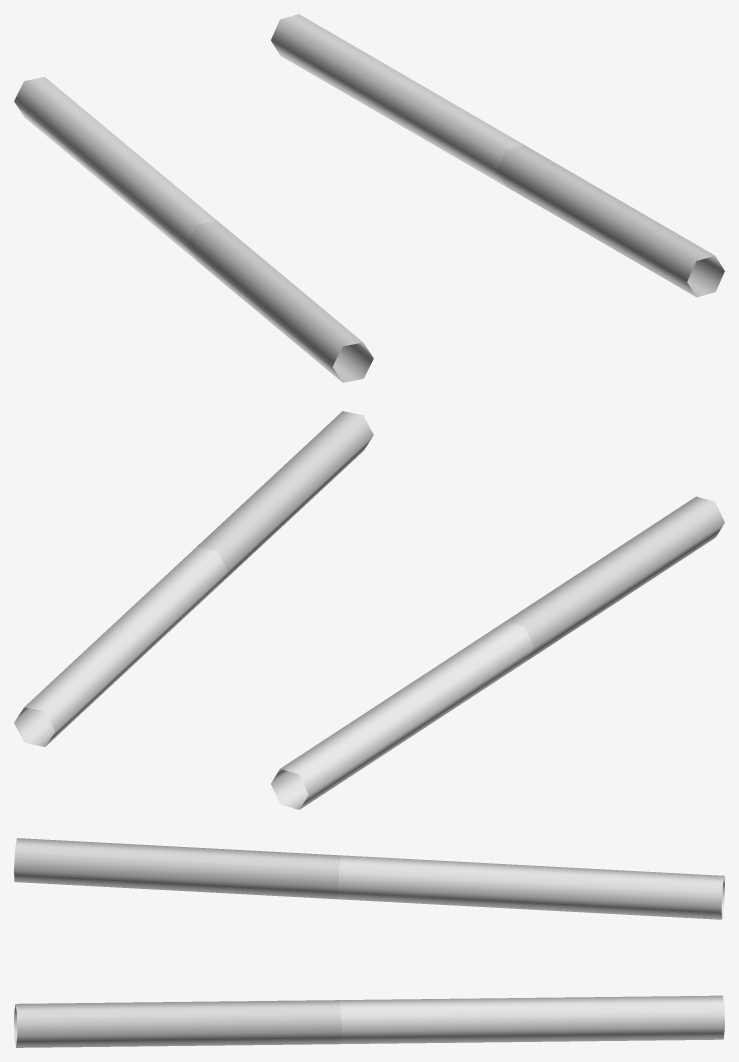
The model's file is nycsignalarm_regular8_c12.obj.
The picture shows the model from 3 angles, top to bottom: view 1: azimuth 30°, elevation 25°; view 2: azimuth 150°, elevation 25°; view 3: azimuth 270°, elevation 25°; orthographic projection. The views are drawn at different scales.
Parts seen in each view (by area): view 1: nycsignalarm_regular8_c12; view 2: nycsignalarm_regular8_c12; view 3: nycsignalarm_regular8_c12.
Boxes of the visible parts, left/top/right/bottom form: nycsignalarm_regular8_c12: left=14, top=14, right=724, bottom=382; nycsignalarm_regular8_c12: left=14, top=411, right=724, bottom=809; nycsignalarm_regular8_c12: left=14, top=838, right=724, bottom=1047.
Bounding box in the file's own units: 0.6168 × 0.0772 × 1.
